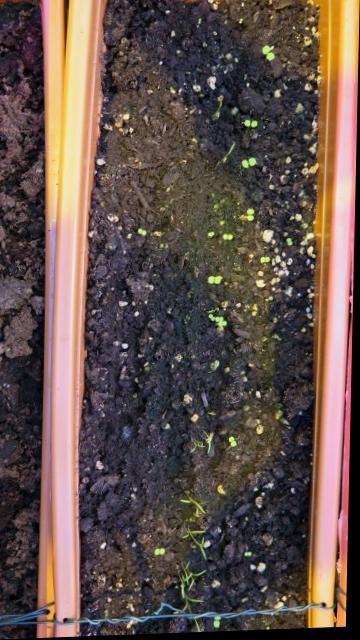weed: (260, 43, 276, 67), (240, 155, 257, 173), (205, 273, 224, 287), (242, 117, 259, 132), (229, 432, 239, 456), (153, 545, 168, 559), (245, 206, 255, 226), (222, 230, 235, 244), (257, 253, 271, 266), (135, 225, 147, 240), (284, 236, 294, 250)
